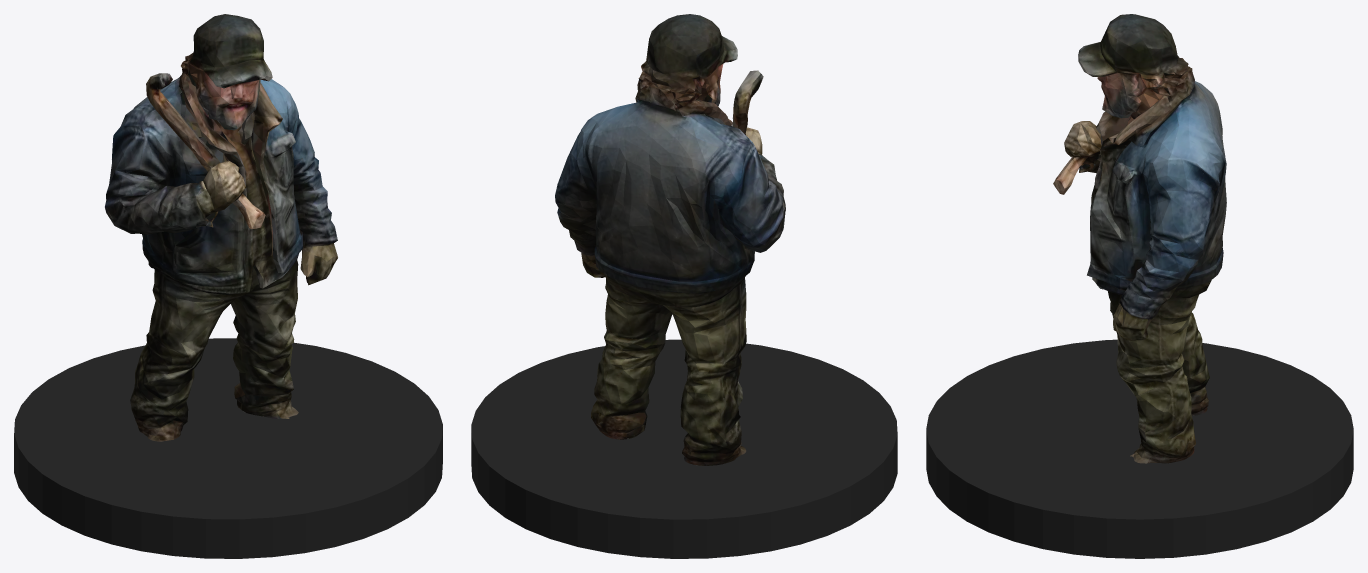
File: rod-miller.glb
The picture shows the model from 3 angles, left to right: view 1: azimuth 30°, elevation 25°; view 2: azimuth 150°, elevation 25°; view 3: azimuth 270°, elevation 25°; orthographic projection.
Visible parts, largest first — view 1: base, figure; view 2: base, figure; view 3: base, figure.
Part boxes in pixels (x1,y1,x2,y2): base: [14, 338, 442, 558]; figure: [105, 14, 337, 441]; base: [471, 339, 897, 558]; figure: [555, 14, 785, 465]; base: [926, 339, 1353, 558]; figure: [1053, 14, 1226, 463].
Bounding box in the file's own units: 1.18 × 1.37 × 1.18.
2 materials, 1 textured.
